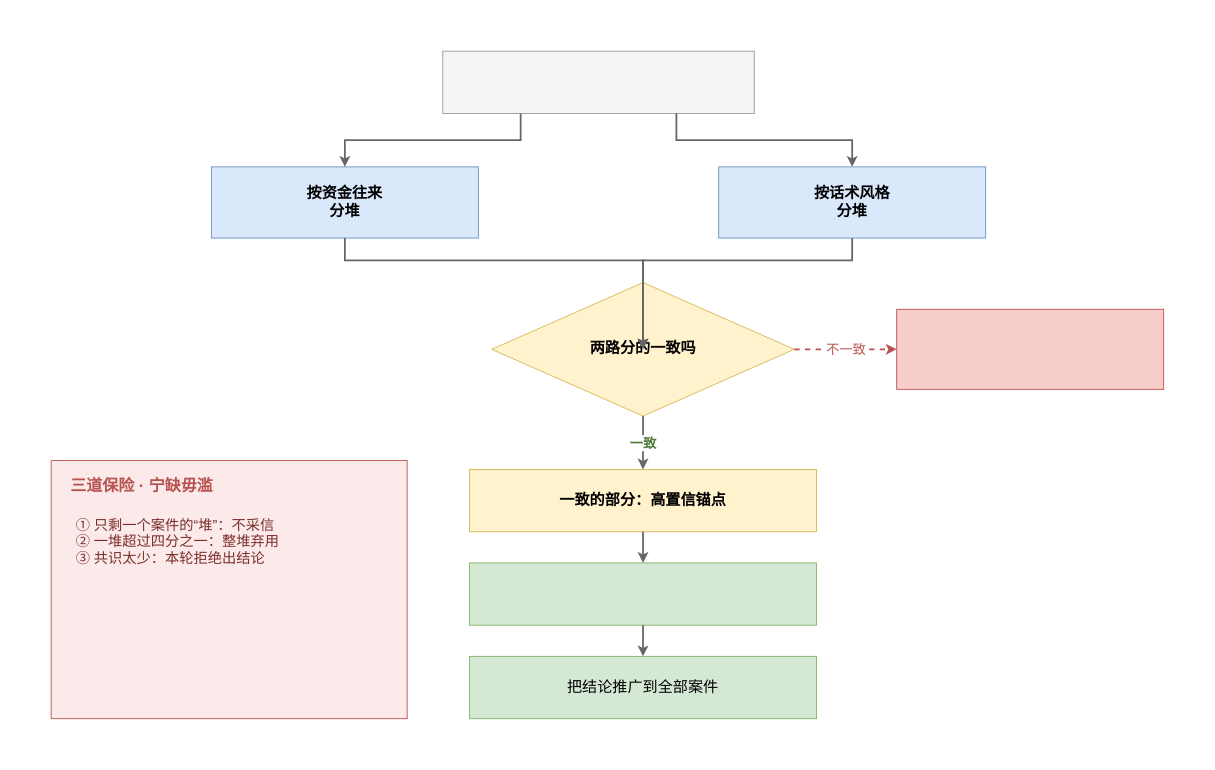
Some shapes in this 1215 by 770 pixel diagram are drawn without their labels. Here are the shapes that lost their labels. From the top down, the centre of each, then its label:
At (x=598, y=81): "同一批零散案件".
At (x=1030, y=348): "不一致的分堆 直接舍弃".
At (x=643, y=593): "图网络照着锚点学习".
